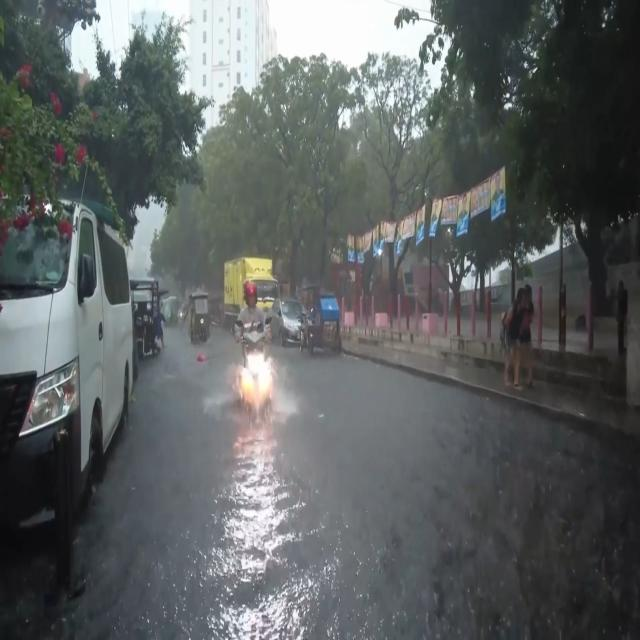half: (244, 280, 258, 308)
